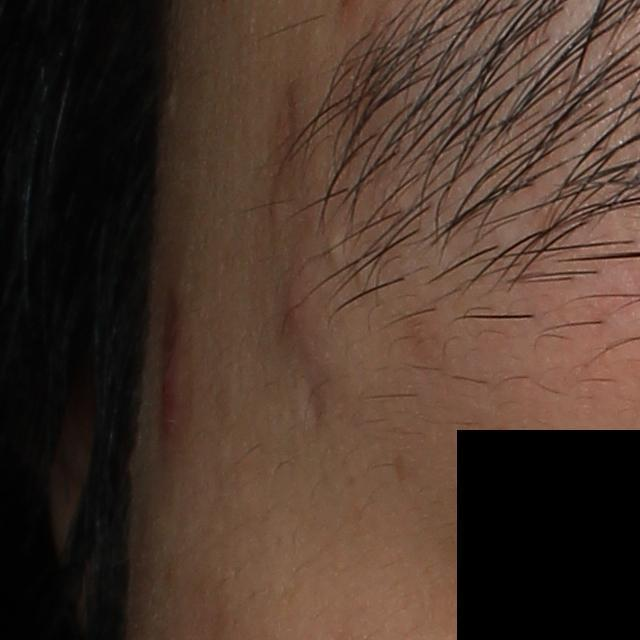atrophic_scar: (292, 362, 338, 445)
papule: (273, 274, 315, 341), (158, 361, 189, 421)
